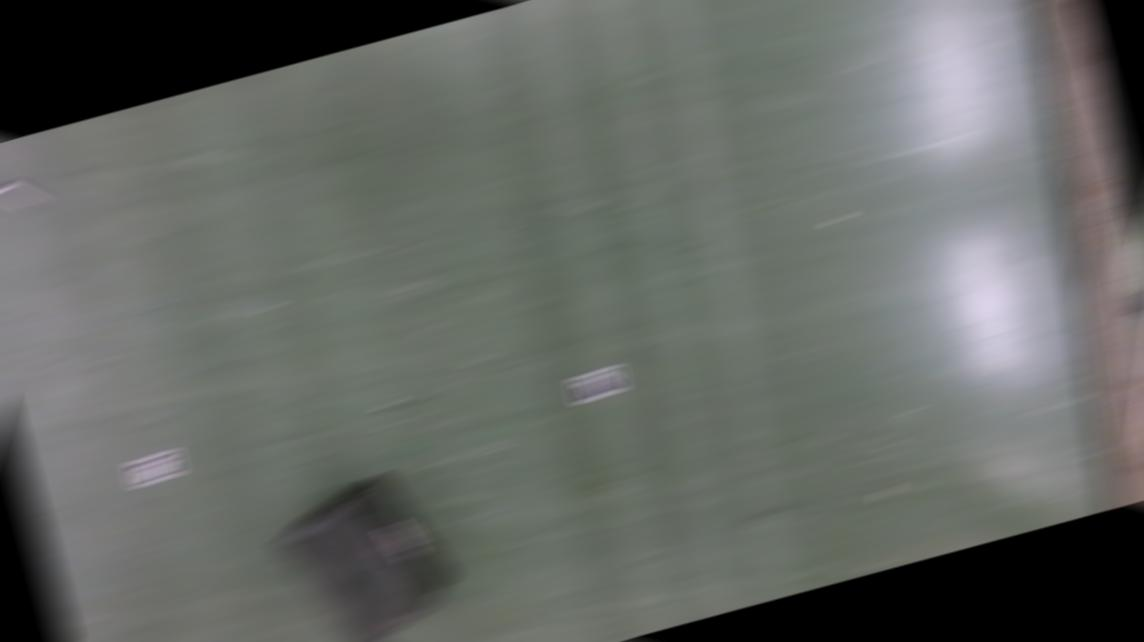probes: (0, 173, 45, 216)
rako: (266, 464, 463, 640)
